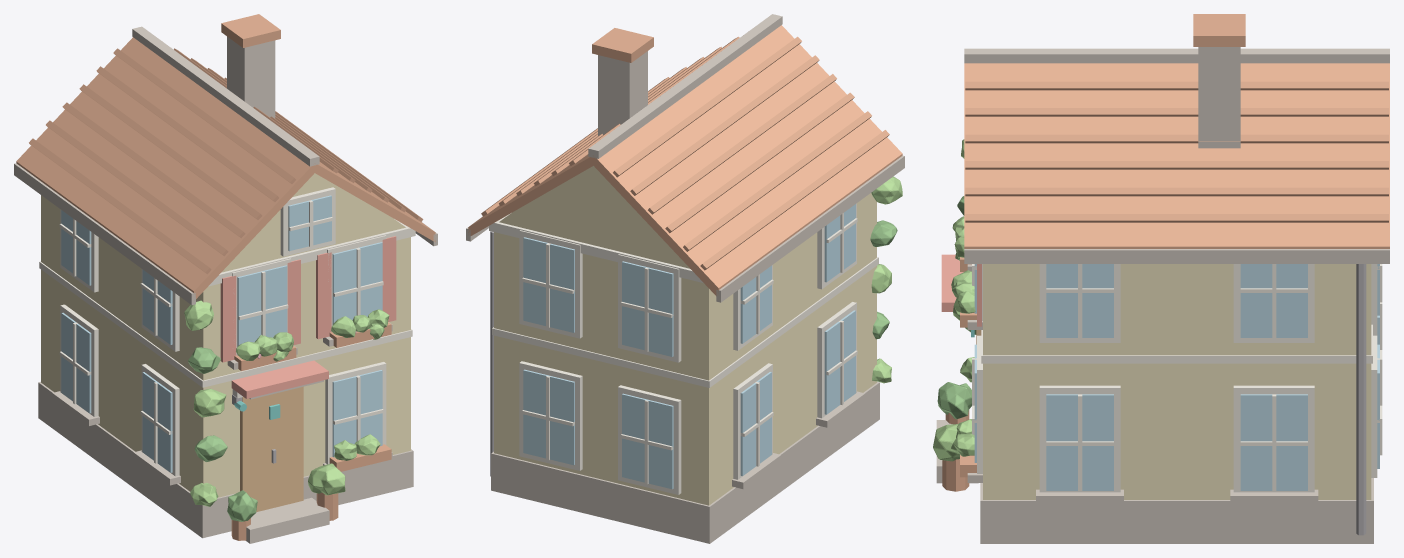
Rendered from Building_Townhouse_C.fbx.
3 views of the same model, side by side, from view 1: azimuth 30°, elevation 25°; view 2: azimuth 150°, elevation 25°; view 3: azimuth 270°, elevation 25° (orthographic). The views are drawn at different scales.
Parts seen in each view (by area): view 1: Building_Townhouse_C, Building_Townhouse_C_Veg; view 2: Building_Townhouse_C, Building_Townhouse_C_Veg; view 3: Building_Townhouse_C, Building_Townhouse_C_Veg.
Part boxes in pixels (x1,y1,x2,y2): Building_Townhouse_C: (14,14,437,543); Building_Townhouse_C_Veg: (184,300,391,540); Building_Townhouse_C: (466,14,904,543); Building_Townhouse_C_Veg: (870,176,902,383); Building_Townhouse_C: (936,14,1389,543); Building_Townhouse_C_Veg: (933,139,976,491).
Size of the model in its own units: 4.03 by 6.3 by 5.41.
